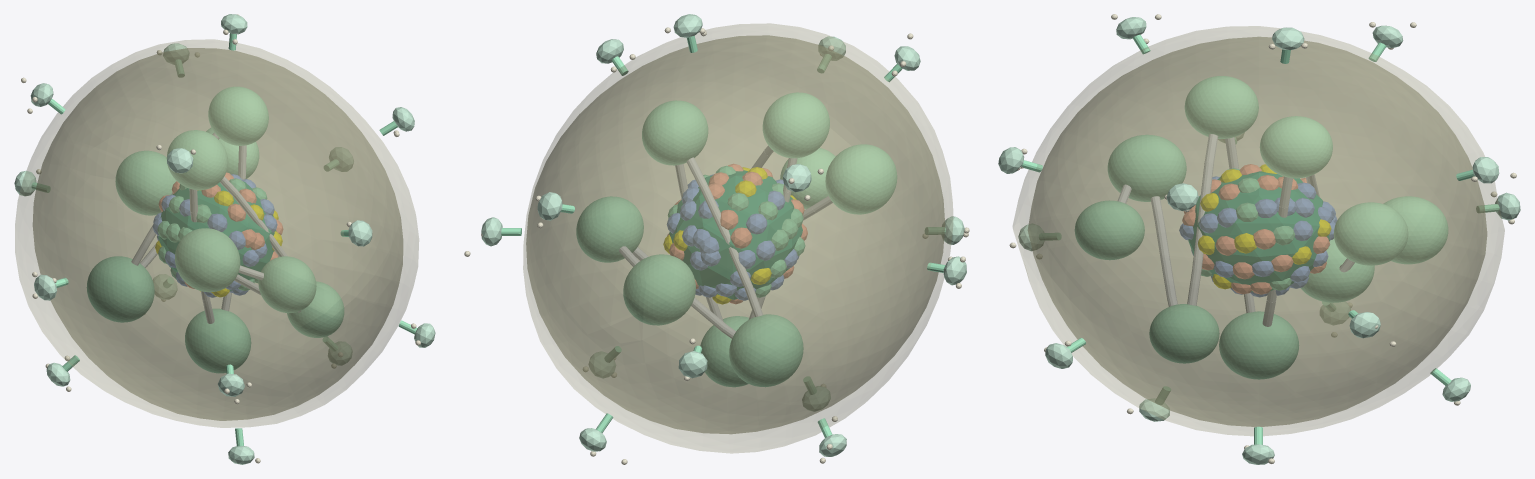
The model's file is virus_ab371720_1_monkeypox_virus_d10l_gene_for_hypothetical_protein_complete_cds_clone_monkey_8280297.glb.
The picture shows the model from 3 angles, left to right: view 1: azimuth 30°, elevation 25°; view 2: azimuth 150°, elevation 25°; view 3: azimuth 270°, elevation 25°; orthographic projection. The views are drawn at different scales.
Parts seen in each view (by area): view 1: geometry_0, geometry_1, geometry_102, geometry_97, geometry_100, geometry_104, geometry_101, geometry_96, geometry_2, geometry_99, geometry_98, geometry_103 (+15 smaller); view 2: geometry_0, geometry_1, geometry_2, geometry_102, geometry_104, geometry_97, geometry_99, geometry_103, geometry_101, geometry_100, geometry_96, geometry_336 (+13 smaller); view 3: geometry_0, geometry_1, geometry_2, geometry_100, geometry_97, geometry_103, geometry_99, geometry_101, geometry_96, geometry_98, geometry_104, geometry_102 (+14 smaller).
Boxes of the visible parts, left/top/right/bottom form: geometry_0: left=15, top=39, right=418, bottom=427; geometry_1: left=32, top=48, right=403, bottom=420; geometry_102: left=86, top=256, right=154, bottom=322; geometry_97: left=175, top=228, right=240, bottom=292; geometry_100: left=185, top=308, right=251, bottom=373; geometry_104: left=115, top=150, right=176, bottom=215; geometry_101: left=208, top=86, right=268, bottom=145; geometry_96: left=258, top=256, right=316, bottom=313; geometry_2: left=158, top=181, right=276, bottom=290; geometry_99: left=166, top=130, right=228, bottom=190; geometry_98: left=287, top=281, right=344, bottom=337; geometry_103: left=206, top=127, right=259, bottom=178; geometry_0: left=523, top=23, right=952, bottom=453; geometry_1: left=526, top=35, right=945, bottom=434; geometry_2: left=669, top=170, right=802, bottom=299; geometry_102: left=729, top=314, right=803, bottom=387; geometry_104: left=623, top=254, right=695, bottom=325; geometry_97: left=825, top=144, right=897, bottom=214; geometry_99: left=762, top=92, right=829, bottom=158; geometry_103: left=576, top=196, right=643, bottom=262; geometry_101: left=642, top=100, right=708, bottom=165; geometry_100: left=700, top=316, right=748, bottom=387; geometry_96: left=780, top=148, right=835, bottom=209; geometry_336: left=537, top=192, right=574, bottom=220; geometry_0: left=1012, top=26, right=1504, bottom=435; geometry_1: left=1027, top=36, right=1487, bottom=426; geometry_2: left=1188, top=171, right=1329, bottom=291; geometry_100: left=1219, top=311, right=1298, bottom=379; geometry_97: left=1107, top=134, right=1186, bottom=201; geometry_103: left=1333, top=202, right=1408, bottom=265; geometry_99: left=1184, top=76, right=1258, bottom=138; geometry_101: left=1260, top=116, right=1332, bottom=178; geometry_96: left=1074, top=200, right=1144, bottom=260; geometry_98: left=1149, top=304, right=1219, bottom=363; geometry_104: left=1383, top=196, right=1448, bottom=264; geometry_102: left=1300, top=239, right=1374, bottom=302.
Size of the model in its own units: 13.9 by 13.55 by 15.29.
